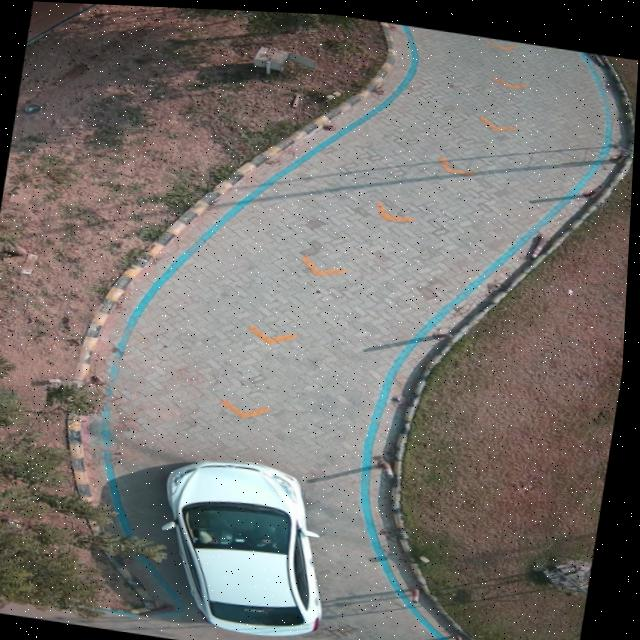car: (169, 458, 328, 633)
